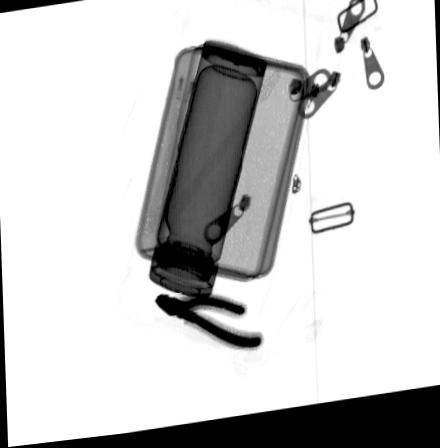Pliers: (153, 295, 264, 357)
